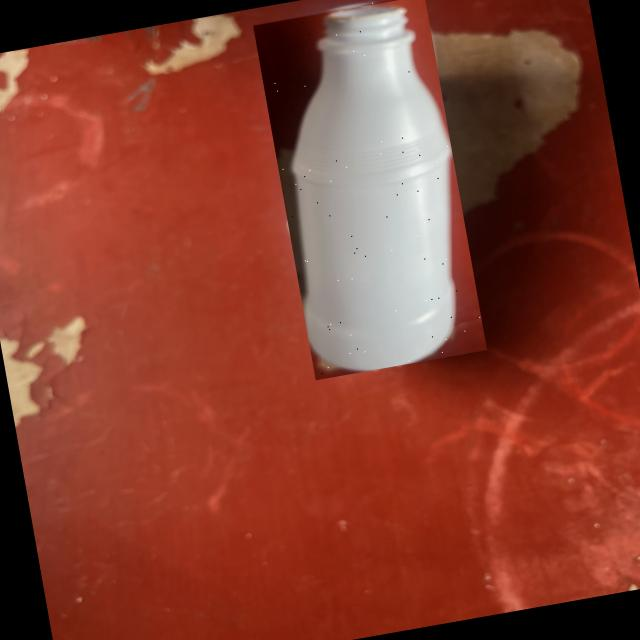HDPE_Bottle: (293, 6, 455, 371)
